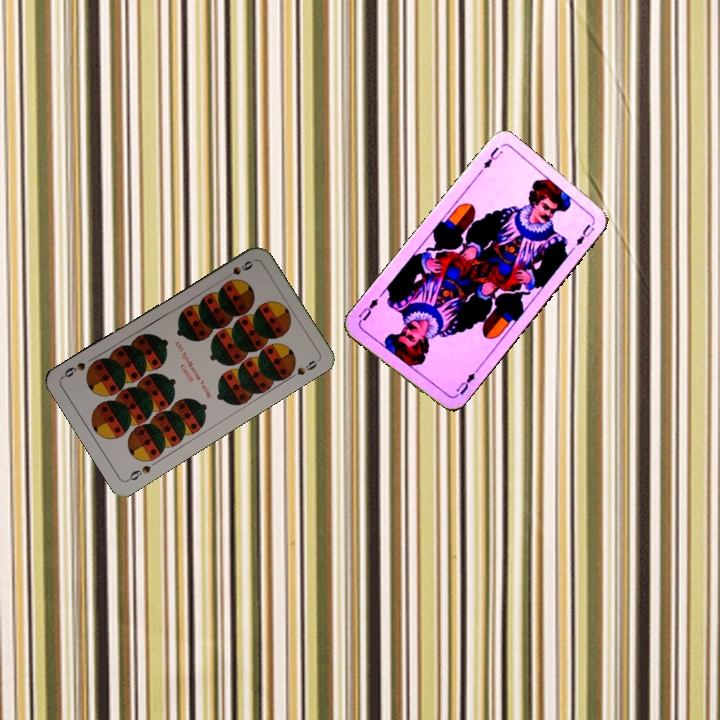EU: (452, 366, 480, 398), (479, 142, 506, 171)
S9: (219, 256, 256, 282), (123, 461, 153, 484)
